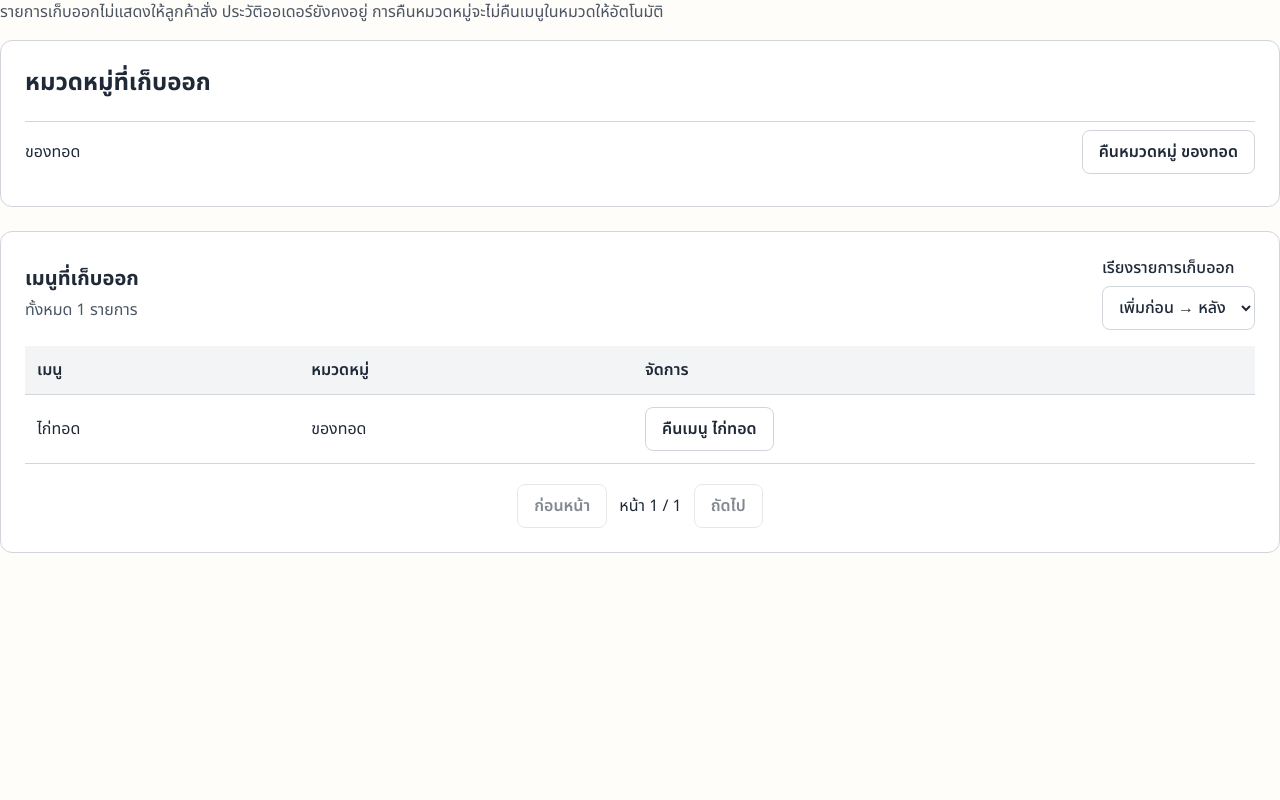
Test: MenuArchivePanel UI draft with injected gateway › keeps a business conflict and the same row available for a deliberate retry
Click the button "คืนเมนู ไก่ทอด": (709, 429) [645,407,774,451]
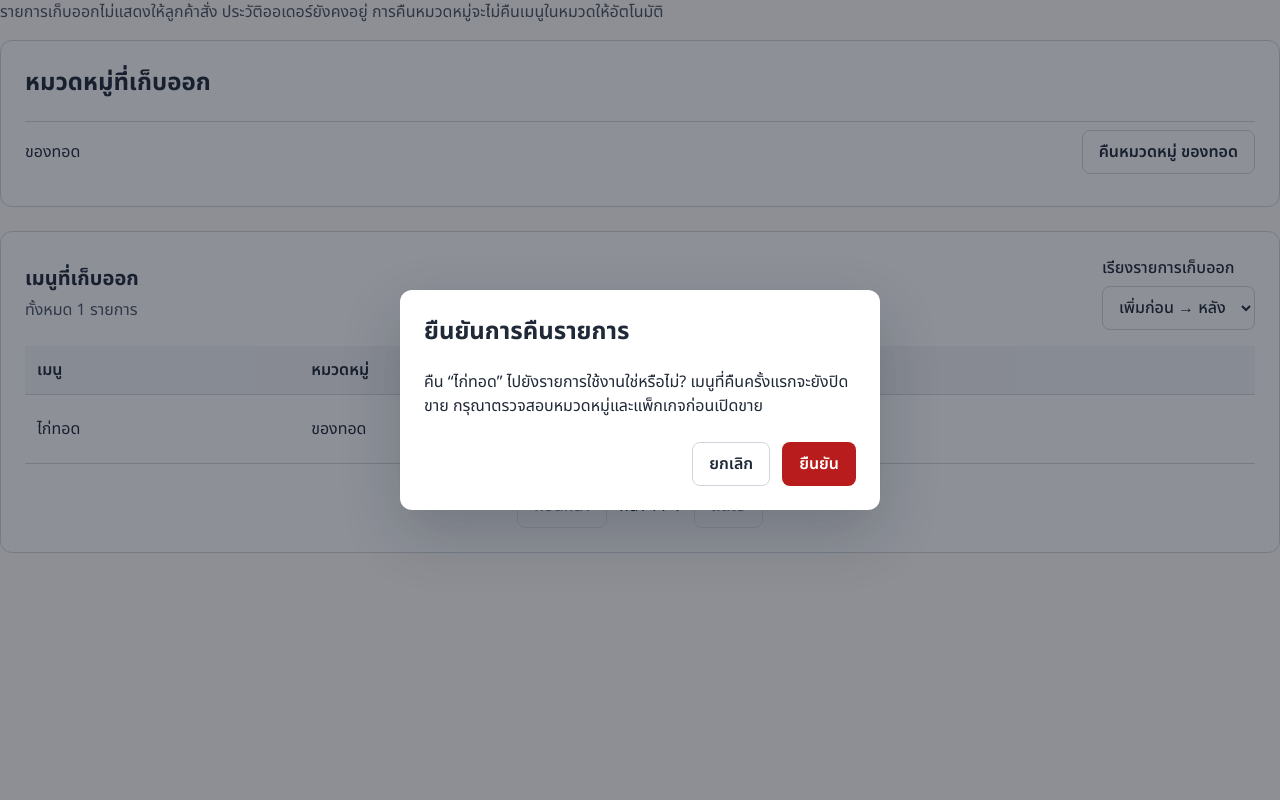
Click the button "ยืนยัน": (819, 464) [782,442,856,486]
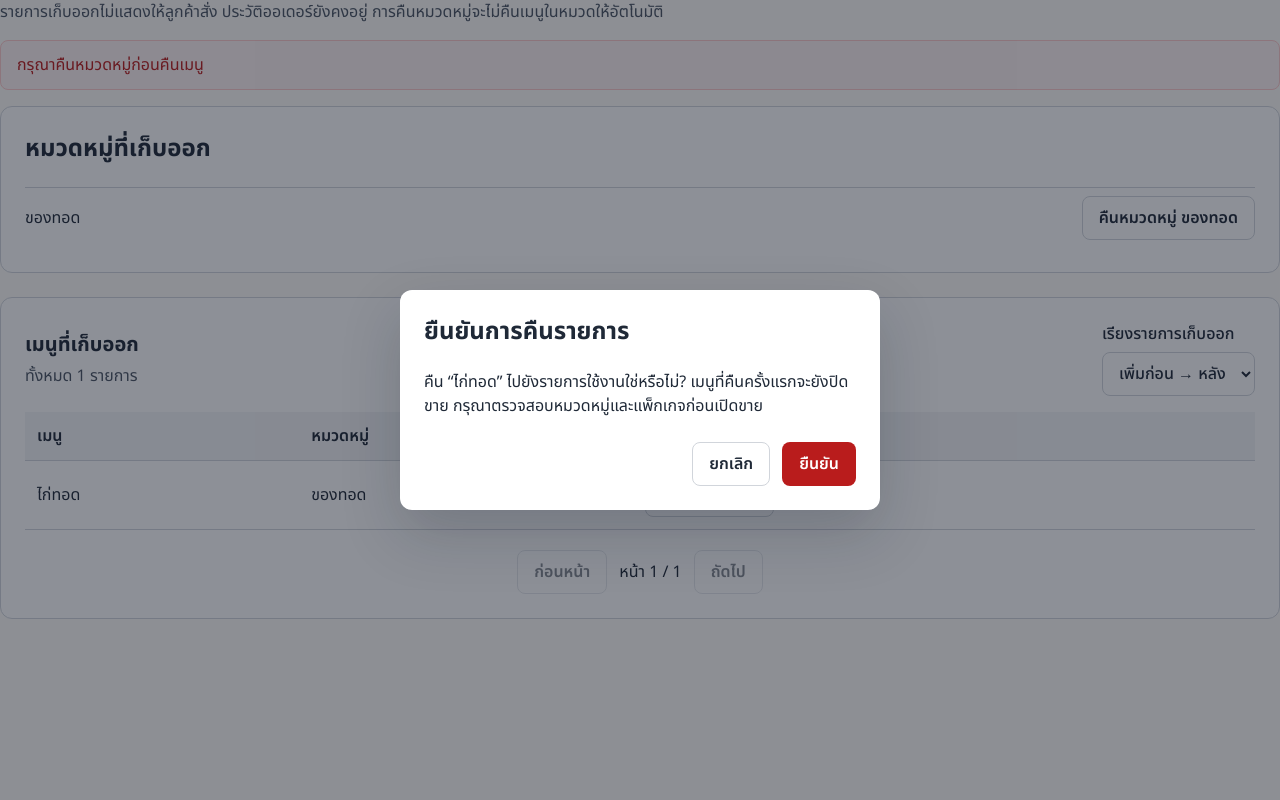
Expected: the row "ไก่ทอด ของทอด คืนเมนู ไก่ทอด" is shown, [25,460,1255,530]
Now the dialog is shown, box [400,290,880,510]
Now the message reads "กรุณาคืนหมวดหมู่ก่อนคืนเมนู", box [17,53,204,77]
Click the button "ยืนยัน": (819, 464) [782,442,856,486]
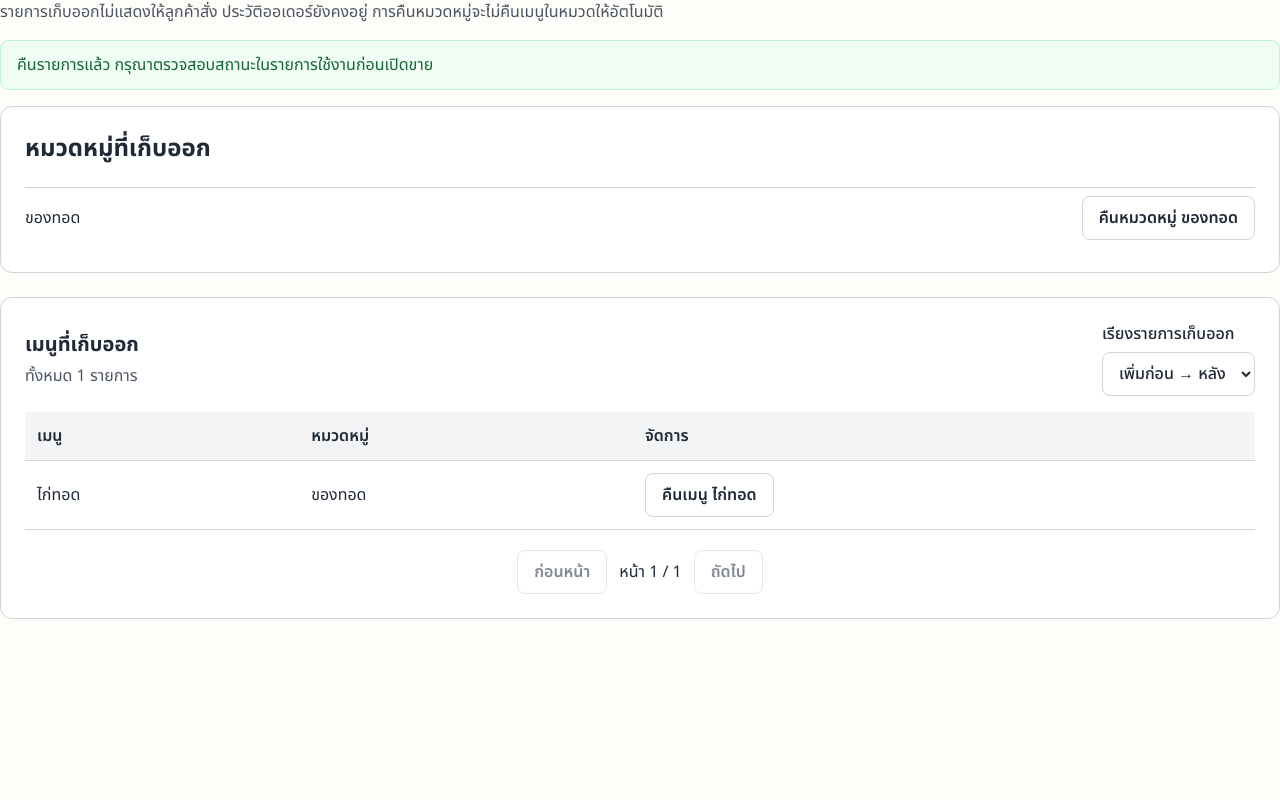
Now the text "คืนรายการแล้ว กรุณาตรวจสอบสถานะในรายการใช้งานก่อนเปิดขาย" is shown, box [0,40,1279,90]
